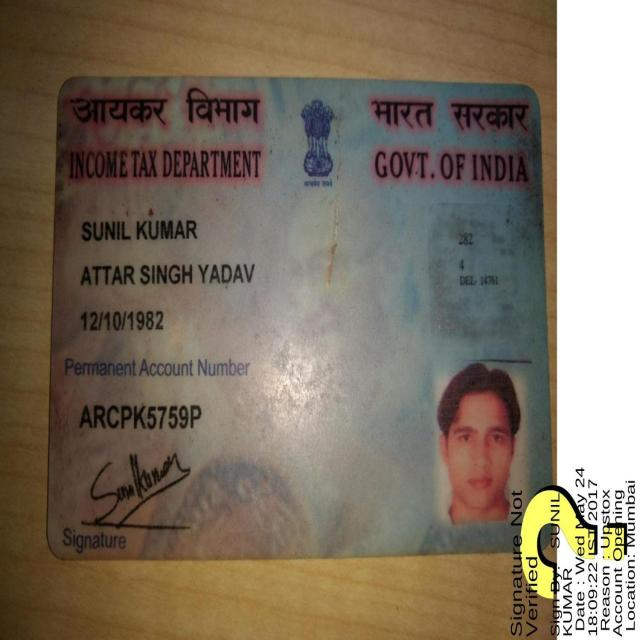pan_card: (53, 86, 547, 554)
